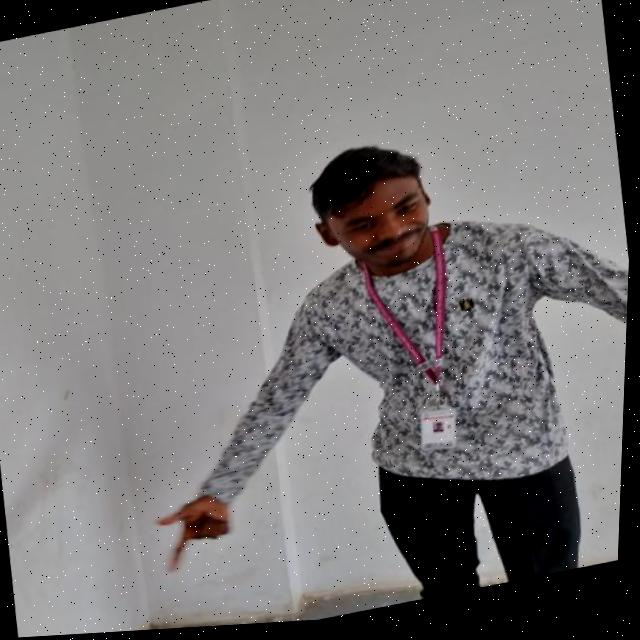id_card: (359, 245, 484, 465)
